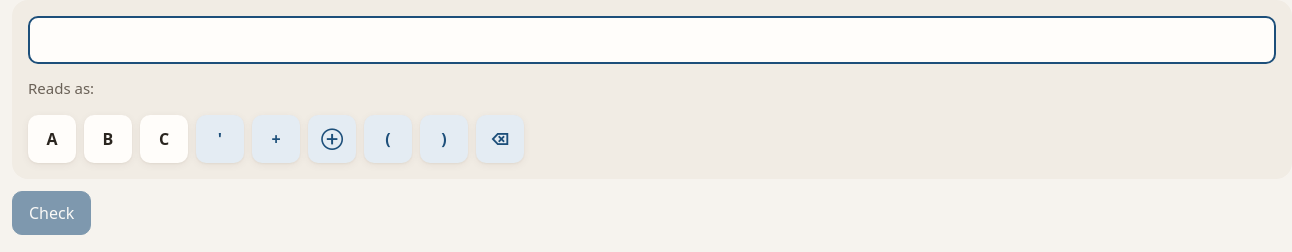
Test: ExpressionEntry › text that does not parse yet shows an ellipsis instead of a reading
Step 1. Type "A + (" into the field → (652, 40), box [28,16,1276,64]
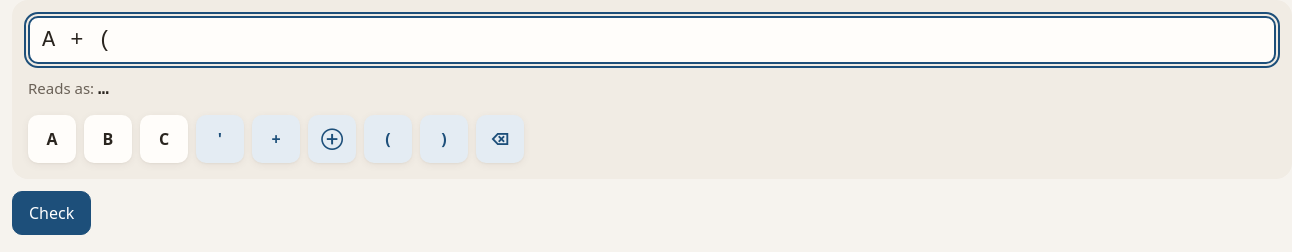
Expected: the text "Reads as: …" is shown, [28,78,109,99]
